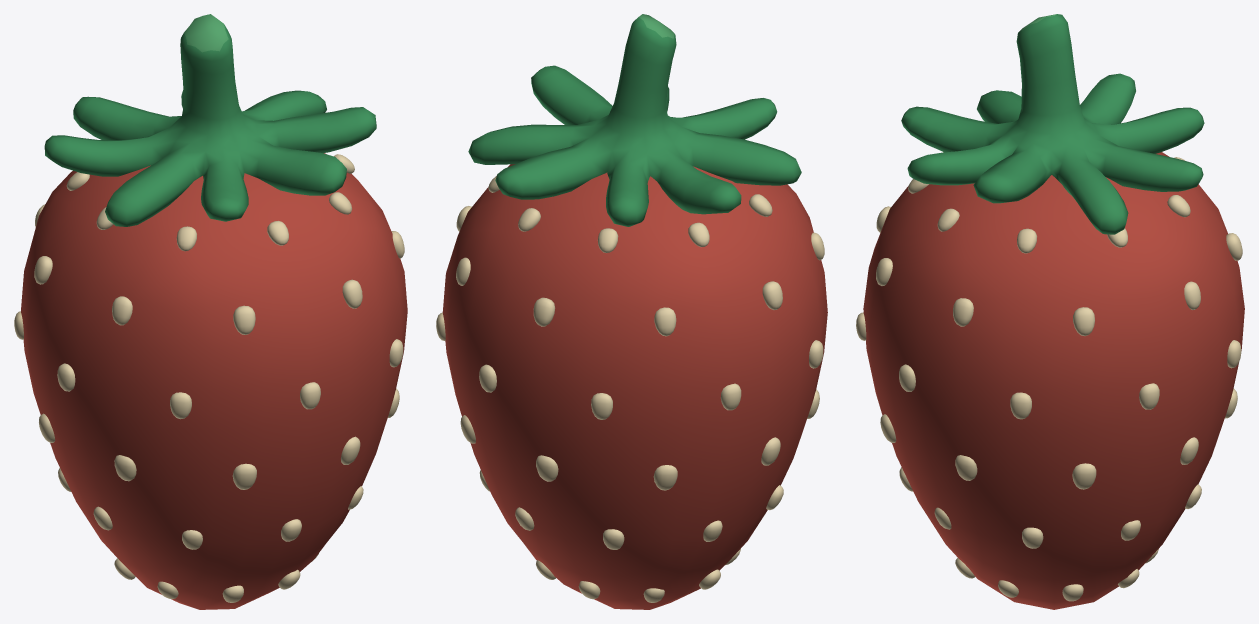
Rendered from Strawberry_01.dae.
3 renders of one model, left to right at view 1: azimuth 30°, elevation 25°; view 2: azimuth 150°, elevation 25°; view 3: azimuth 270°, elevation 25°, orthographic.
Visible parts, largest first — view 1: Strawberry_01_LOD0; view 2: Strawberry_01_LOD0; view 3: Strawberry_01_LOD0.
Part boxes in pixels (x1=…): Strawberry_01_LOD0: x1=14, y1=14, x2=407, y2=609; Strawberry_01_LOD0: x1=436, y1=14, x2=827, y2=609; Strawberry_01_LOD0: x1=856, y1=14, x2=1244, y2=609.
Size of what is drawn, in the model's own units: 2.66 by 2.65 by 4.38.
